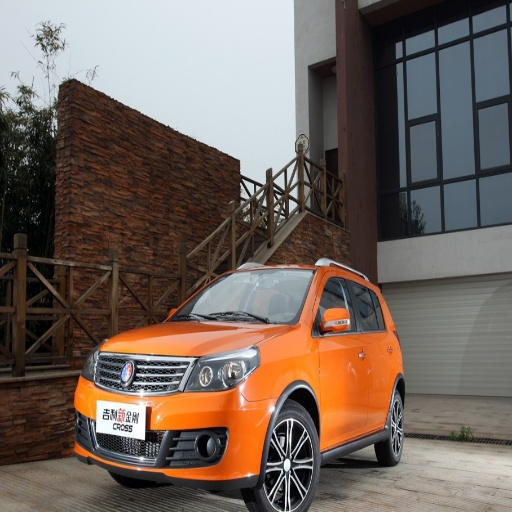front_bumper: (74, 355, 278, 483)
front_glass: (173, 268, 313, 324)
front_left_door: (314, 267, 366, 445)
